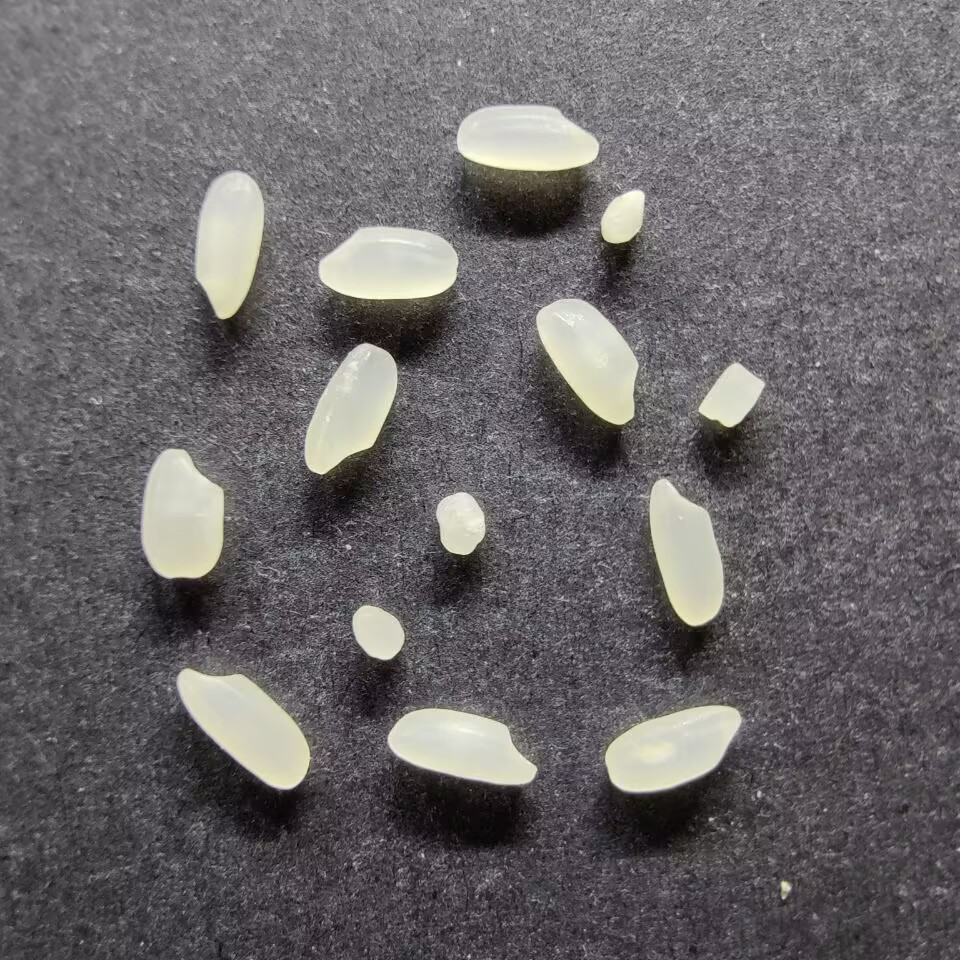broken: (697, 362, 765, 428), (435, 492, 486, 555), (351, 604, 406, 660), (600, 187, 645, 244)
rice: (176, 667, 310, 789), (535, 297, 637, 426), (303, 342, 398, 475), (605, 704, 742, 792), (387, 708, 537, 786), (648, 478, 723, 626), (140, 448, 224, 580), (317, 226, 458, 299), (194, 171, 263, 319), (456, 104, 598, 171)
